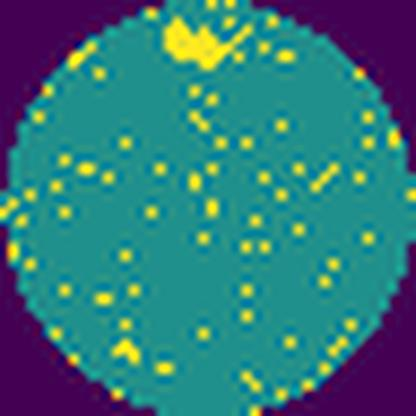Loc: (163, 18, 255, 68)
